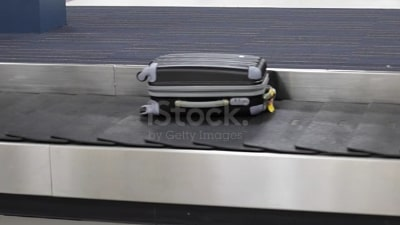baggage: (133, 48, 282, 128)
